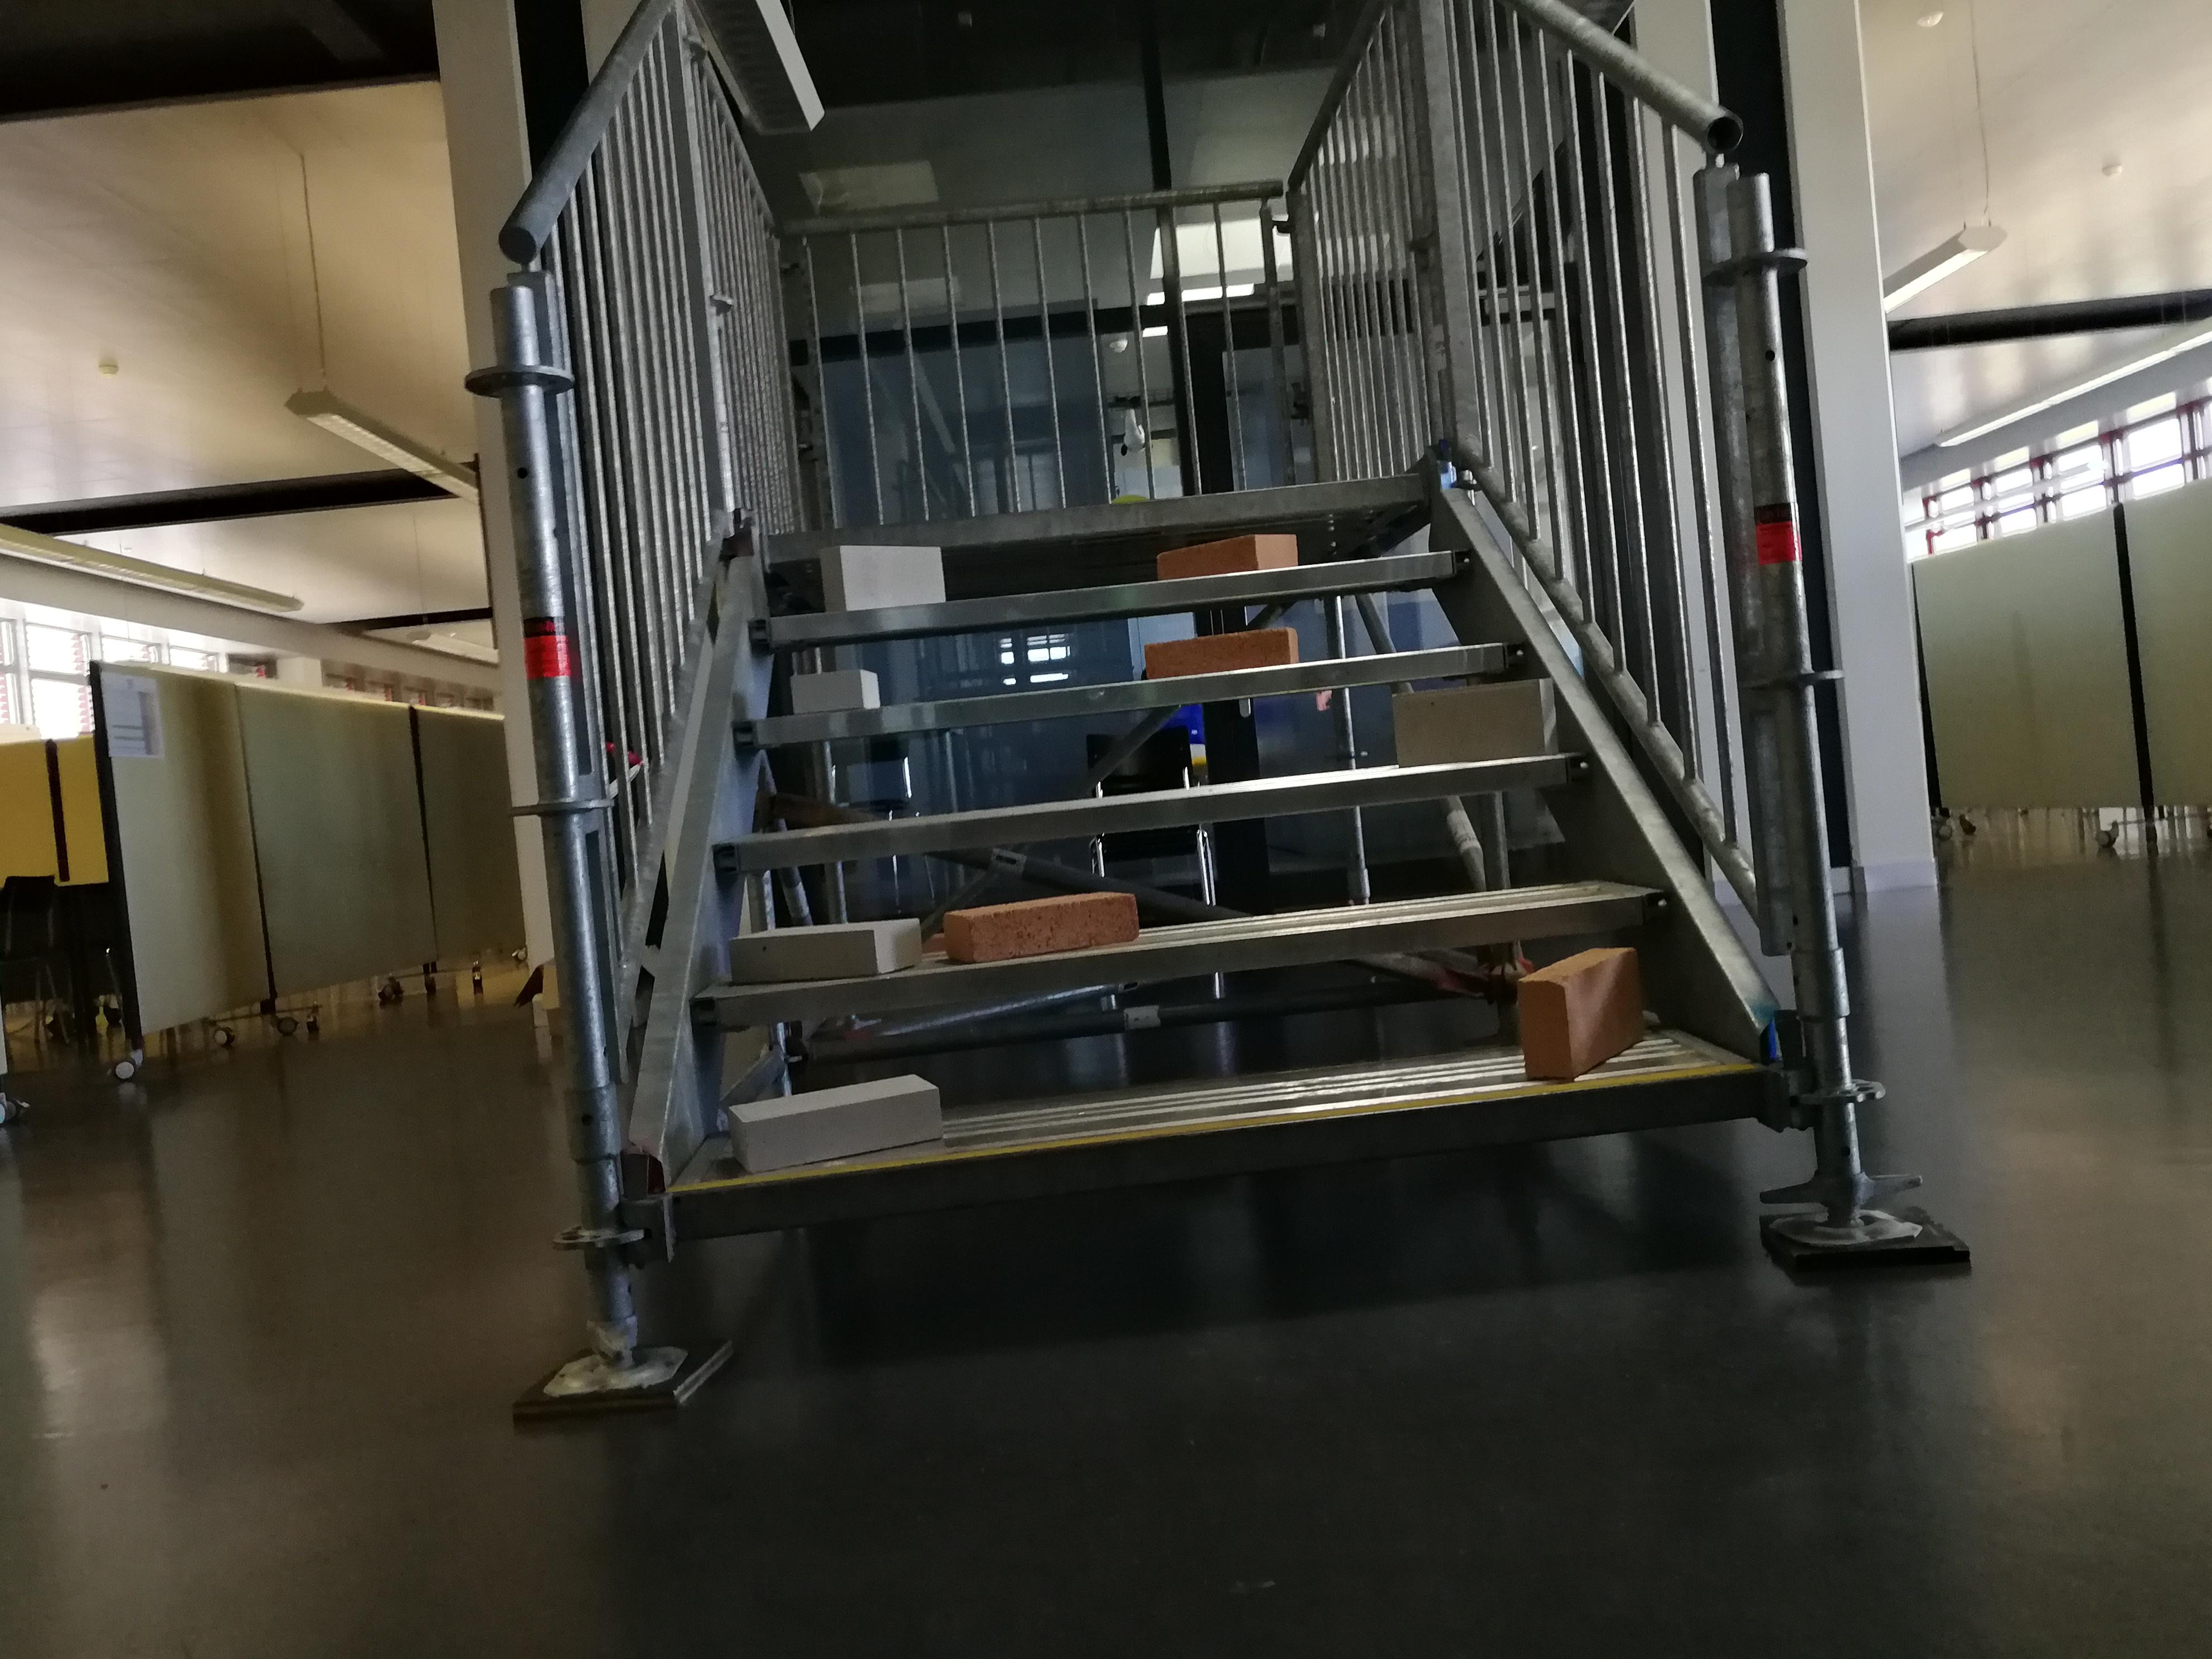brick: (728, 1072, 937, 1173), (1519, 945, 1639, 1080), (948, 889, 1141, 960), (1390, 681, 1555, 762), (733, 918, 914, 976), (817, 544, 942, 612), (1146, 627, 1292, 674), (1153, 532, 1298, 577)
edge: (664, 1065, 1775, 1236), (681, 889, 1670, 1030), (718, 753, 1592, 871), (737, 636, 1519, 744), (744, 551, 1475, 638), (763, 471, 1439, 559)
stairs: (456, 2, 1972, 1413)
steps: (646, 453, 1791, 1269)
